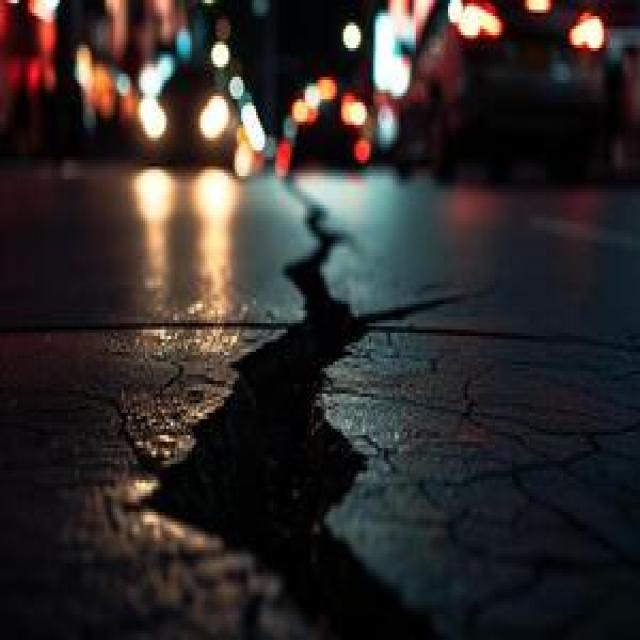road collapse: (60, 125, 463, 640)
